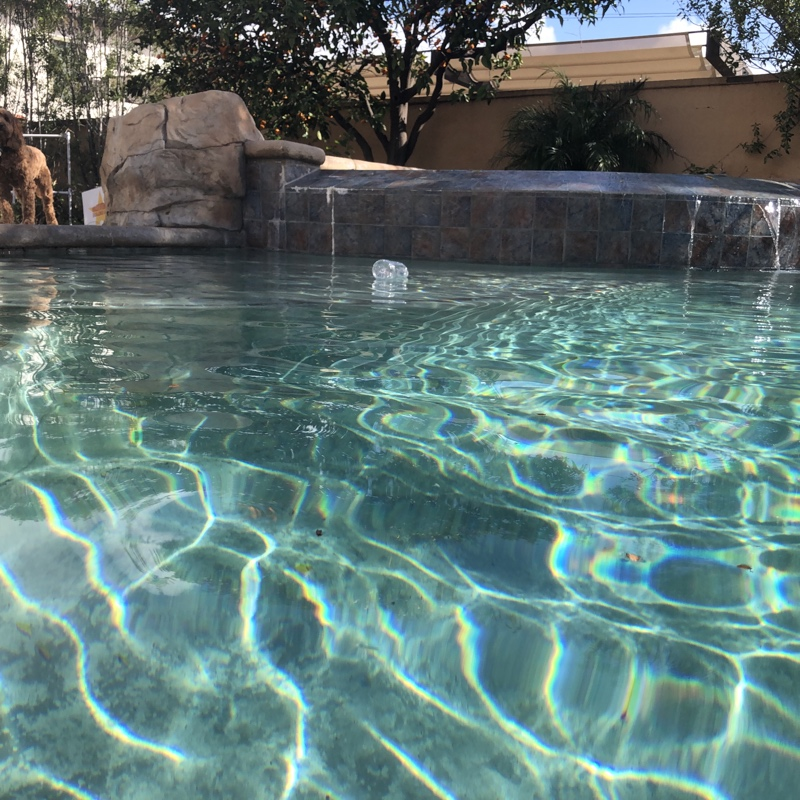Plastic Bottle: (369, 254, 410, 284)
